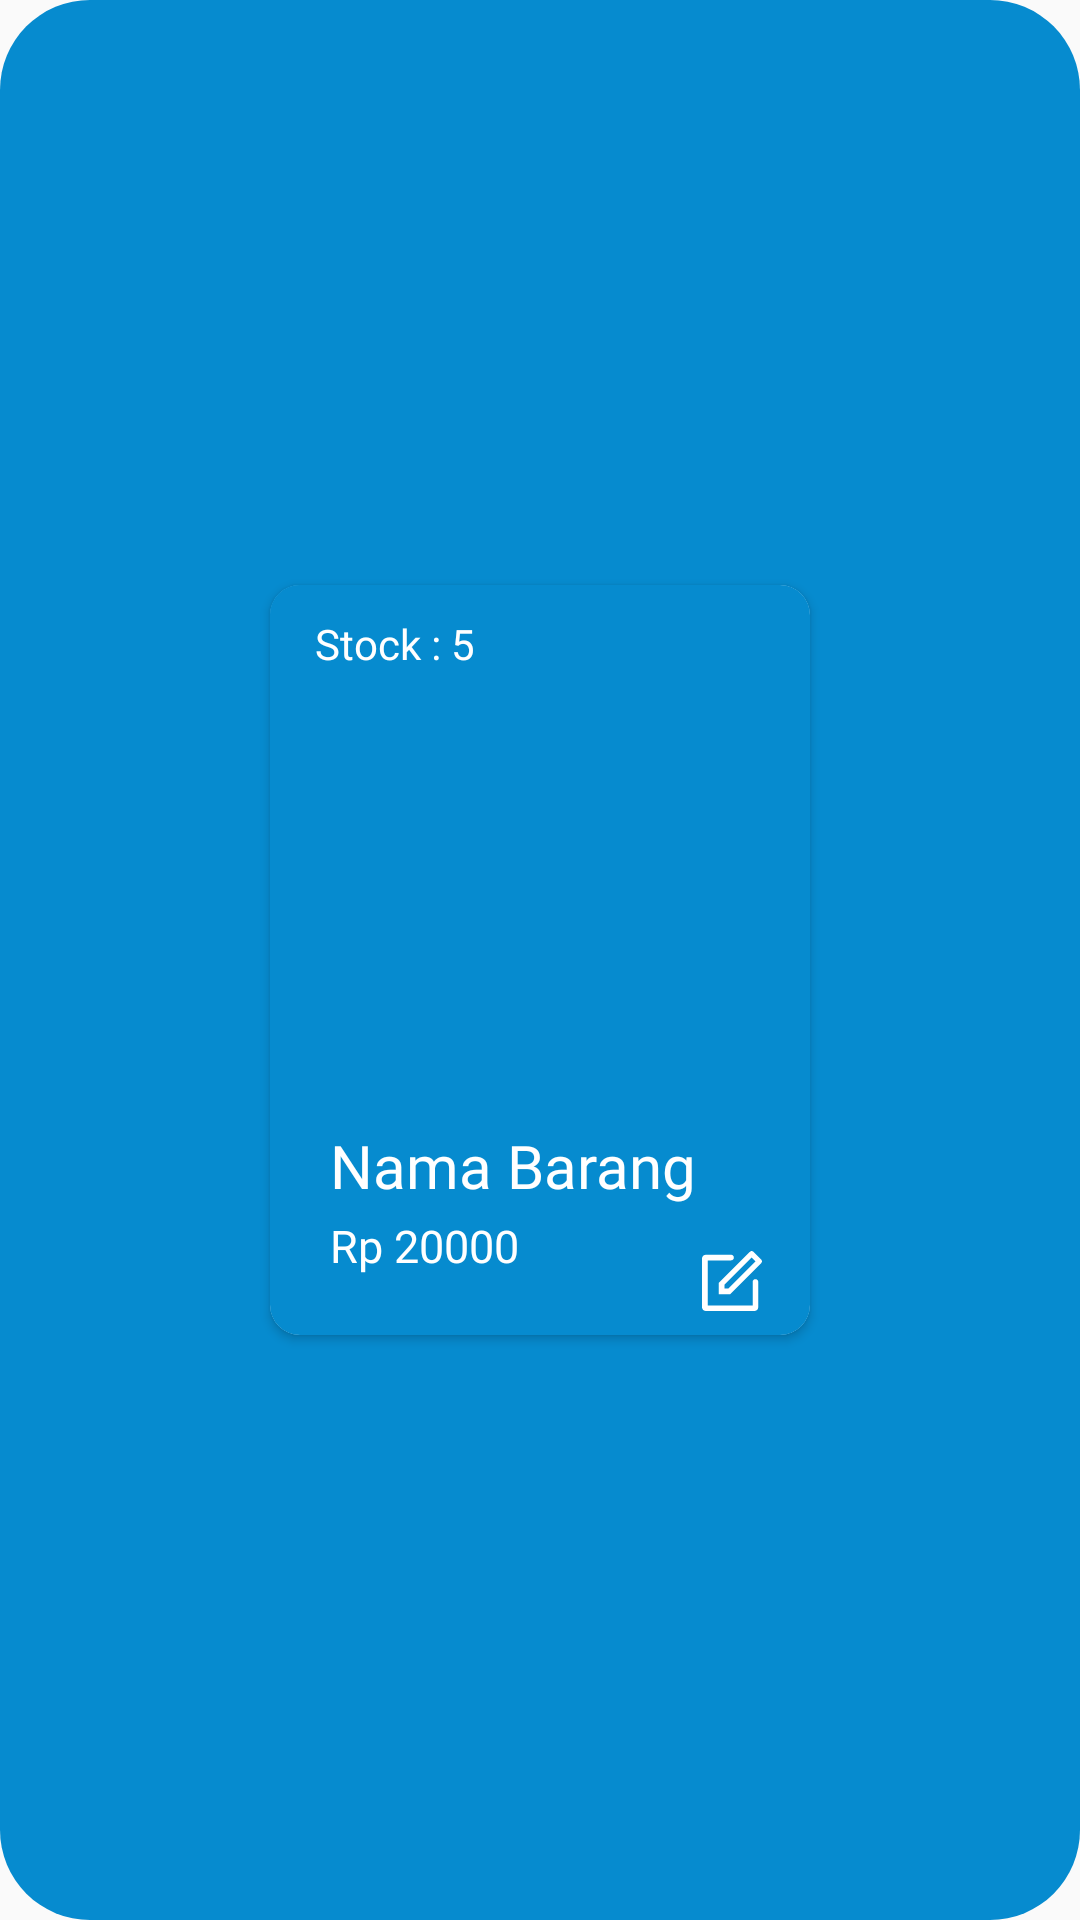

Icon bounding boxes for this 1080w x 1920h phone screenshot, format (x1, y1, x2, y2):
edit: (702, 1251, 762, 1311)
